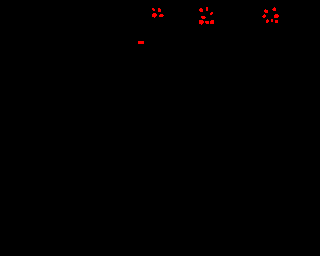Target: (152, 13, 157, 18), (199, 20, 204, 25), (274, 14, 279, 18), (138, 41, 144, 44), (272, 7, 276, 11), (199, 8, 203, 12), (264, 9, 268, 13), (262, 14, 266, 18), (210, 20, 214, 24), (159, 14, 164, 17), (201, 16, 206, 19), (158, 8, 161, 12), (266, 19, 269, 23), (205, 21, 209, 24), (152, 8, 155, 11), (210, 12, 213, 15), (275, 20, 278, 23), (206, 7, 208, 11), (271, 19, 273, 22)
